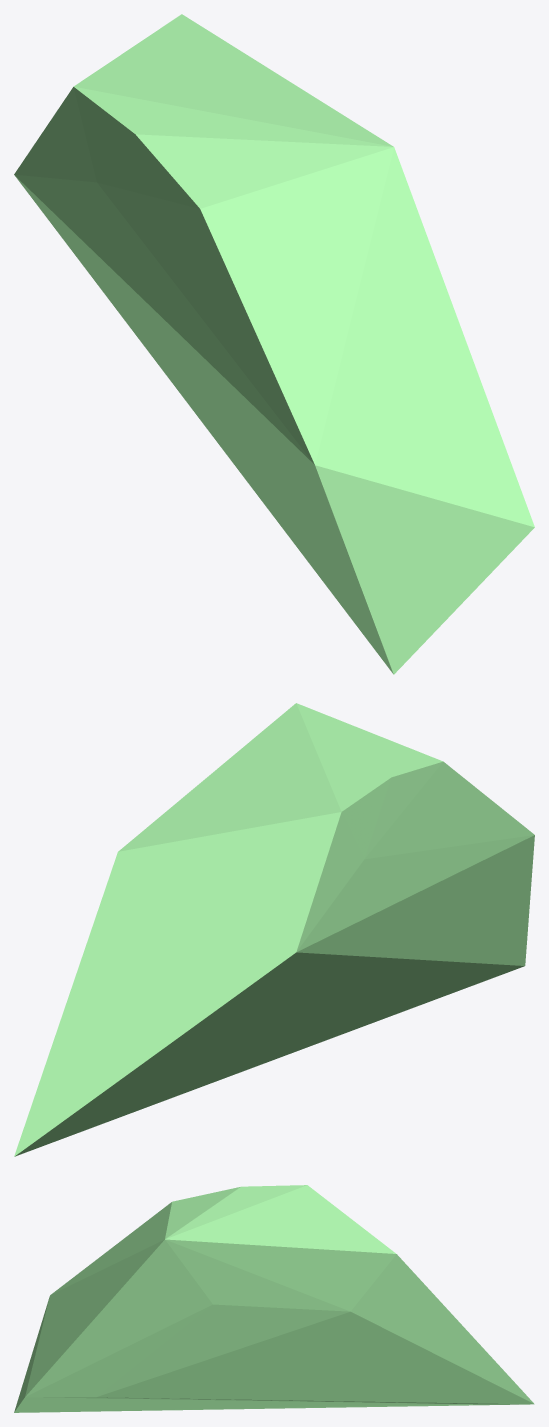
File: linkhou_LR4_R560_link6_respondable_coll_12.dae
3 views of the same model, one above another, from view 1: azimuth 30°, elevation 25°; view 2: azimuth 150°, elevation 25°; view 3: azimuth 270°, elevation 25° (orthographic). The views are drawn at different scales.
Visible parts, largest first — view 1: Node_00000209DB3AD520; view 2: Node_00000209DB3AD520; view 3: Node_00000209DB3AD520.
Part boxes in pixels (x1,y1,x2,y2): Node_00000209DB3AD520: [14, 14, 534, 674]; Node_00000209DB3AD520: [14, 703, 534, 1156]; Node_00000209DB3AD520: [14, 1185, 534, 1412].
Bounding box in the file's own units: 0.0175 × 0.0318 × 0.0697.
